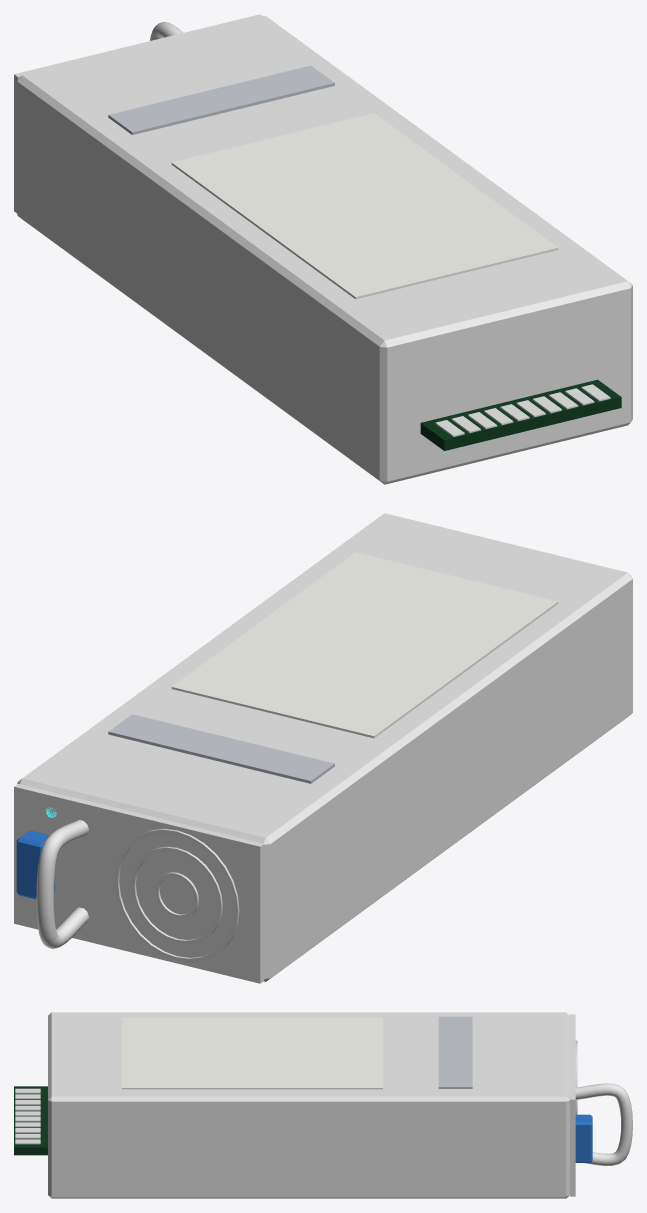
Rendered from hw_psu_650w_silver.glb.
The picture shows the model from 3 angles, top to bottom: view 1: azimuth 30°, elevation 25°; view 2: azimuth 150°, elevation 25°; view 3: azimuth 270°, elevation 25°; orthographic projection. The views are drawn at different scales.
Parts seen in each view (by area): view 1: Body; view 2: Body; view 3: Body.
Boxes of the visible parts, left/top/right/bottom form: Body: left=14, top=14, right=632, bottom=484; Body: left=14, top=513, right=632, bottom=983; Body: left=14, top=1012, right=632, bottom=1198.
Size of the model in its own units: 0.0735 by 0.041 by 0.2193.
